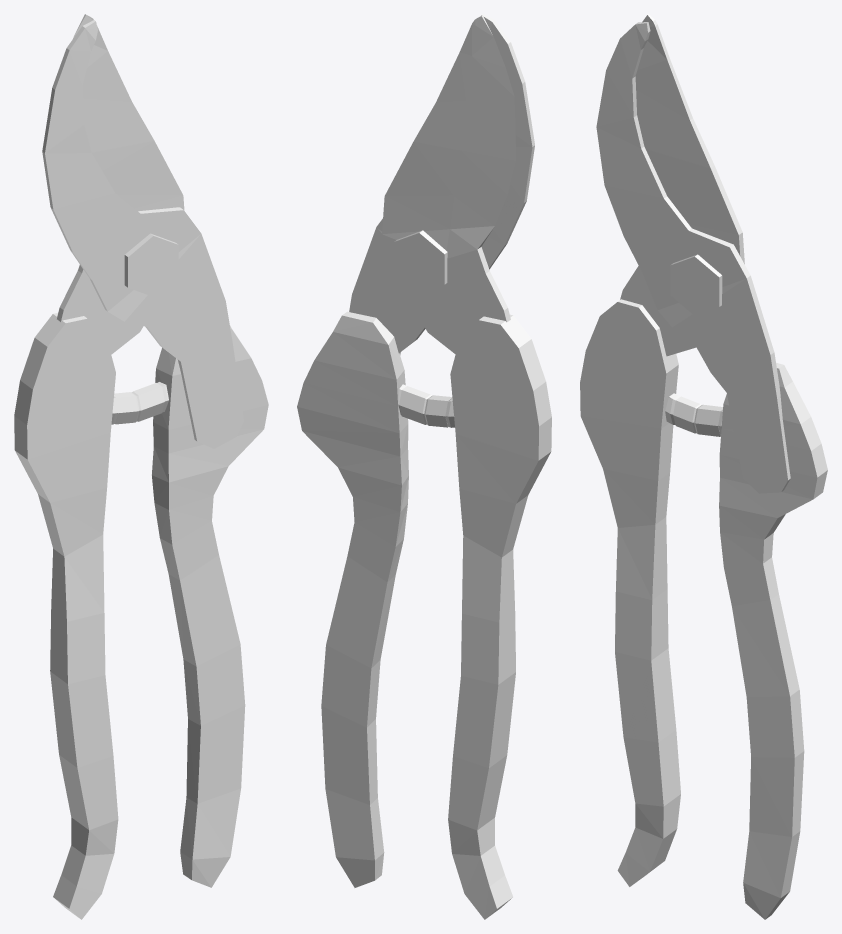
The model's file is Tool_Pruning_Shear_01.glb.
The picture shows the model from 3 angles, left to right: view 1: azimuth 30°, elevation 25°; view 2: azimuth 150°, elevation 25°; view 3: azimuth 330°, elevation 25°; orthographic projection. The views are drawn at different scales.
Visible parts, largest first — view 1: Tool_Pruning Shear_Right_01, Tool_Pruning Shear_Left_01, Tool_Pruning Shear_01; view 2: Tool_Pruning Shear_Left_01, Tool_Pruning Shear_Right_01, Tool_Pruning Shear_01; view 3: Tool_Pruning Shear_Right_01, Tool_Pruning Shear_Left_01, Tool_Pruning Shear_01.
Part boxes in pixels (box(x1,y1,x2,y2)): Tool_Pruning Shear_Right_01: box(42, 20, 268, 887); Tool_Pruning Shear_Left_01: box(14, 14, 184, 919); Tool_Pruning Shear_01: box(111, 233, 178, 424); Tool_Pruning Shear_Left_01: box(382, 15, 551, 919); Tool_Pruning Shear_Right_01: box(297, 14, 534, 887); Tool_Pruning Shear_01: box(394, 230, 454, 427); Tool_Pruning Shear_Right_01: box(596, 22, 827, 919); Tool_Pruning Shear_Left_01: box(580, 14, 744, 886); Tool_Pruning Shear_01: box(665, 254, 722, 436).
Size of the model in its own units: 0.0687 by 0.2435 by 0.00964.
Materials: 1 (1 with a texture image).
